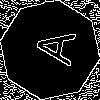A: (25, 25, 76, 66)
